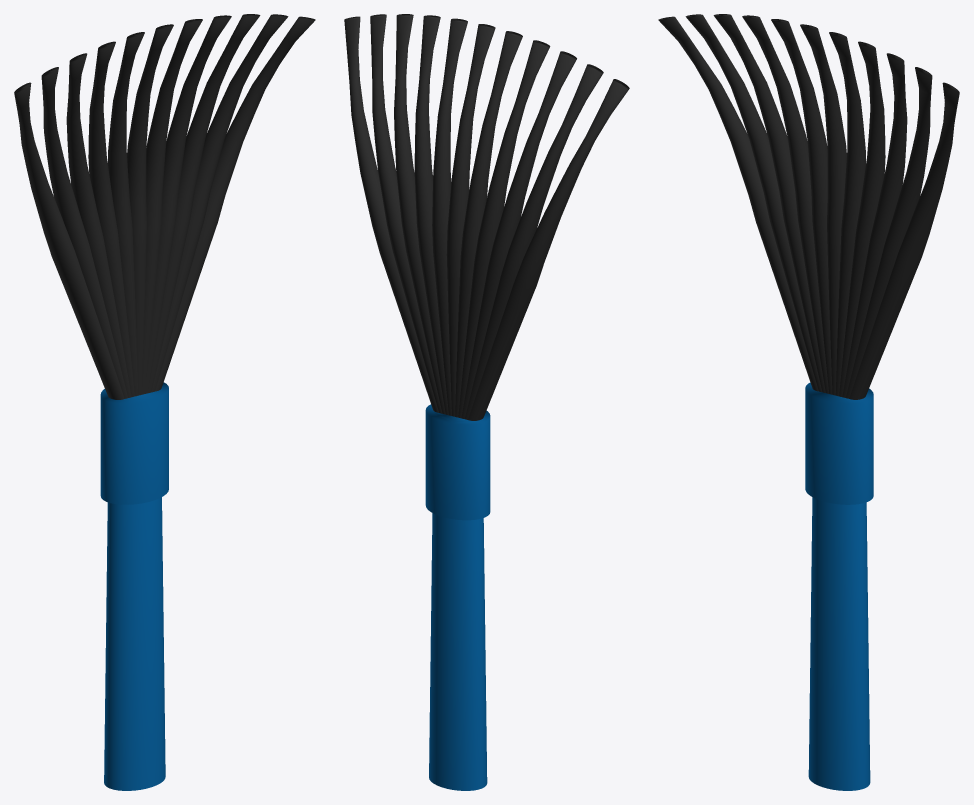
The model's file is FircaCollectable.fbx.
3 views of the same model, side by side, from view 1: azimuth 30°, elevation 25°; view 2: azimuth 150°, elevation 25°; view 3: azimuth 330°, elevation 25° (orthographic). The views are drawn at different scales.
Parts seen in each view (by area): view 1: Cylinder.001, Cylinder.011, Cylinder.006, Cylinder.005, Cylinder.004, Cylinder.003, Cylinder.002, Cylinder, Cylinder.007, Cylinder.008, Cylinder.009, Cylinder.010; view 2: Cylinder.001, Cylinder.011, Cylinder.006, Cylinder, Cylinder.003, Cylinder.007, Cylinder.002, Cylinder.008, Cylinder.004, Cylinder.009, Cylinder.010, Cylinder.005; view 3: Cylinder.001, Cylinder.006, Cylinder.011, Cylinder.010, Cylinder.009, Cylinder.008, Cylinder.007, Cylinder, Cylinder.002, Cylinder.003, Cylinder.004, Cylinder.005.
Boxes of the visible parts, x1=… form: Cylinder.001: x1=100, y1=382, x2=168, y2=790; Cylinder.011: x1=14, y1=82, x2=124, y2=399; Cylinder.006: x1=155, y1=16, x2=315, y2=391; Cylinder.005: x1=151, y1=14, x2=288, y2=392; Cylinder.004: x1=148, y1=14, x2=260, y2=393; Cylinder.003: x1=144, y1=15, x2=231, y2=393; Cylinder.002: x1=141, y1=19, x2=202, y2=394; Cylinder: x1=127, y1=24, x2=173, y2=395; Cylinder.007: x1=107, y1=32, x2=144, y2=396; Cylinder.008: x1=88, y1=41, x2=134, y2=396; Cylinder.009: x1=66, y1=53, x2=131, y2=397; Cylinder.010: x1=41, y1=67, x2=127, y2=398; Cylinder.001: x1=425, y1=404, x2=490, y2=790; Cylinder.011: x1=468, y1=79, x2=629, y2=420; Cylinder.006: x1=344, y1=16, x2=438, y2=412; Cylinder: x1=446, y1=24, x2=495, y2=416; Cylinder.003: x1=414, y1=15, x2=448, y2=415; Cylinder.007: x1=455, y1=31, x2=522, y2=417; Cylinder.002: x1=432, y1=18, x2=467, y2=415; Cylinder.008: x1=458, y1=40, x2=550, y2=418; Cylinder.004: x1=394, y1=14, x2=445, y2=414; Cylinder.009: x1=461, y1=51, x2=576, y2=418; Cylinder.010: x1=464, y1=64, x2=603, y2=419; Cylinder.005: x1=370, y1=14, x2=442, y2=413; Cylinder.001: x1=805, y1=382, x2=873, y2=790; Cylinder.006: x1=849, y1=82, x2=959, y2=399; Cylinder.011: x1=658, y1=16, x2=818, y2=391; Cylinder.010: x1=685, y1=14, x2=822, y2=392; Cylinder.009: x1=713, y1=14, x2=825, y2=392; Cylinder.008: x1=742, y1=15, x2=829, y2=393; Cylinder.007: x1=771, y1=19, x2=832, y2=394; Cylinder: x1=800, y1=24, x2=846, y2=395; Cylinder.002: x1=829, y1=32, x2=865, y2=396; Cylinder.003: x1=839, y1=41, x2=885, y2=396; Cylinder.004: x1=842, y1=53, x2=907, y2=397; Cylinder.005: x1=846, y1=67, x2=932, y2=398.
Size of the model in its own units: 0.8475 by 2.08 by 0.2222.
